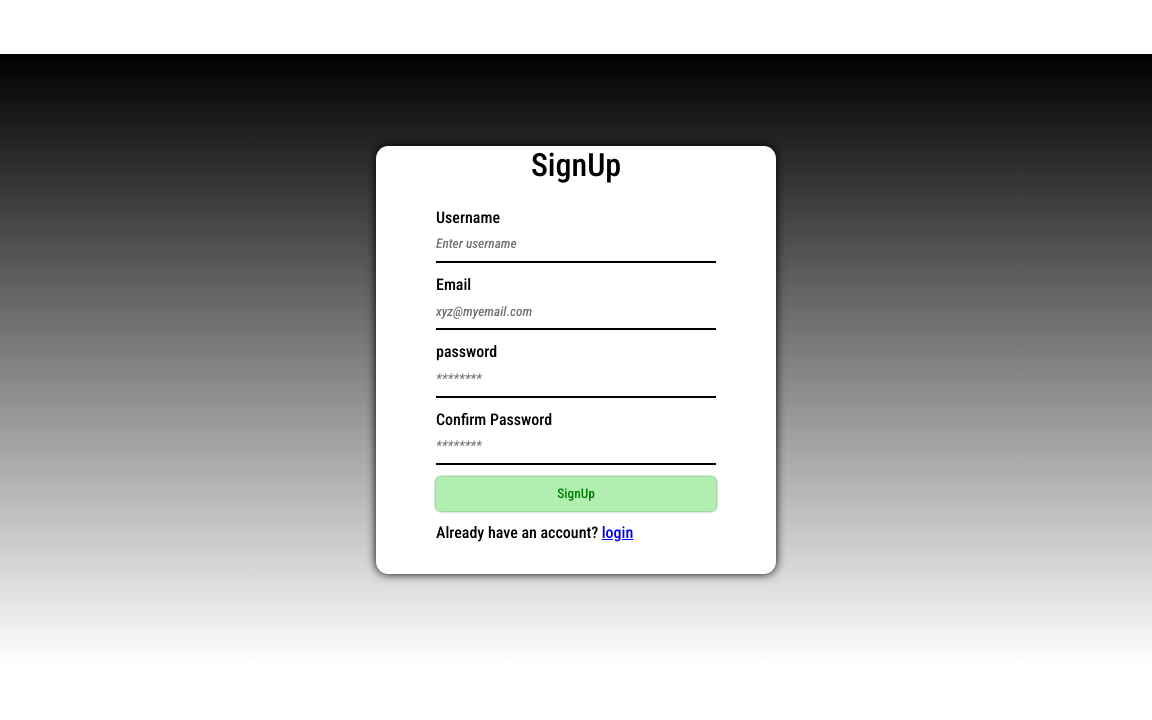
it: Sign up form › Successful Form submission
In the field with placeholder "Enter username": (576, 245) [436,227,716,263], type "testUser"
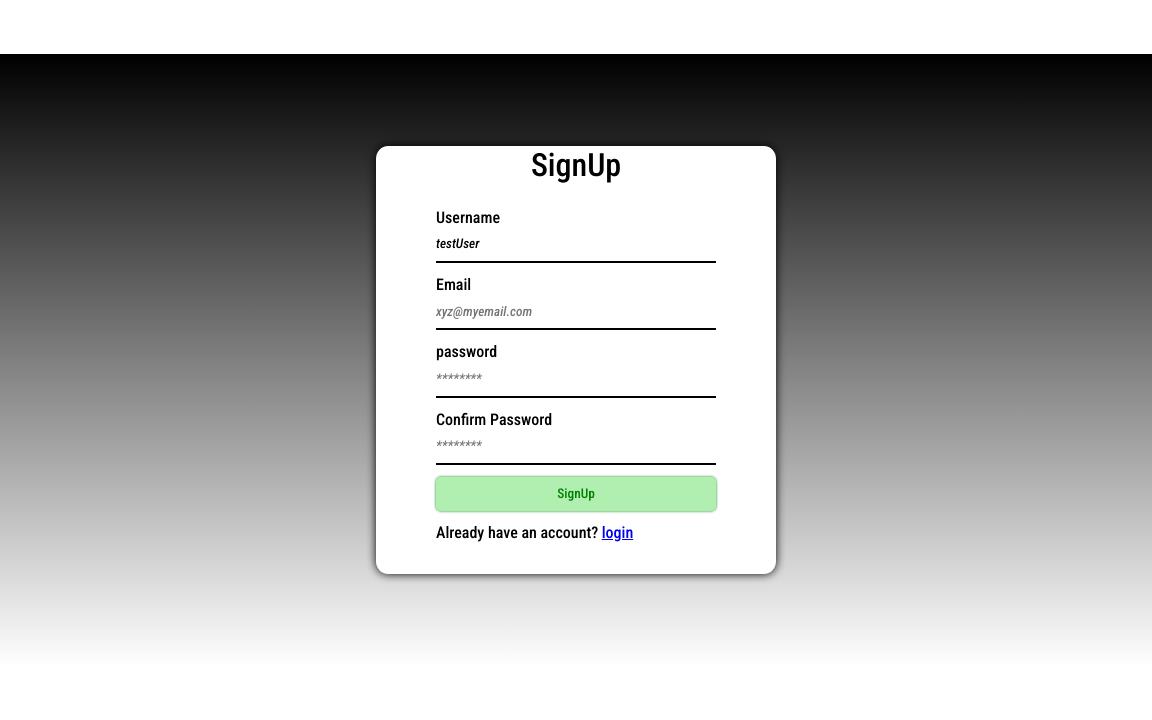
In the field with placeholder "xyz@myemail.com": (576, 312) [436,294,716,330], type "xyztestuser@email.com"
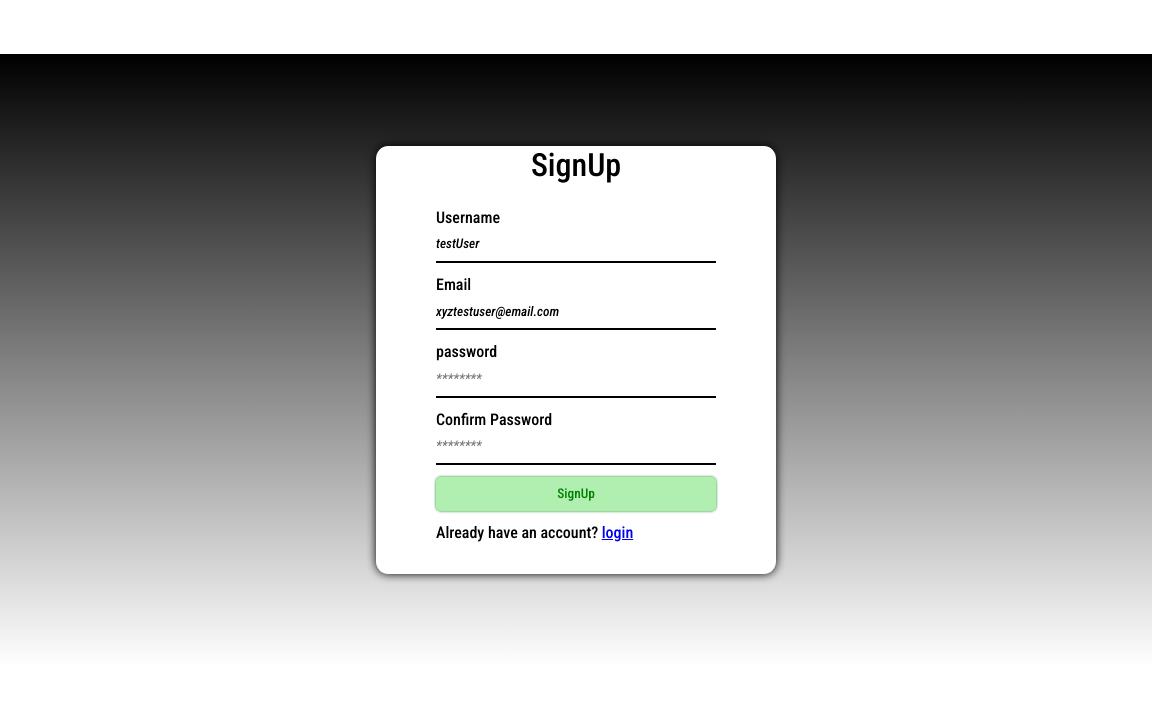
In the 1st password field with placeholder "********": (576, 379) [436,361,716,398], type "testPassword123"
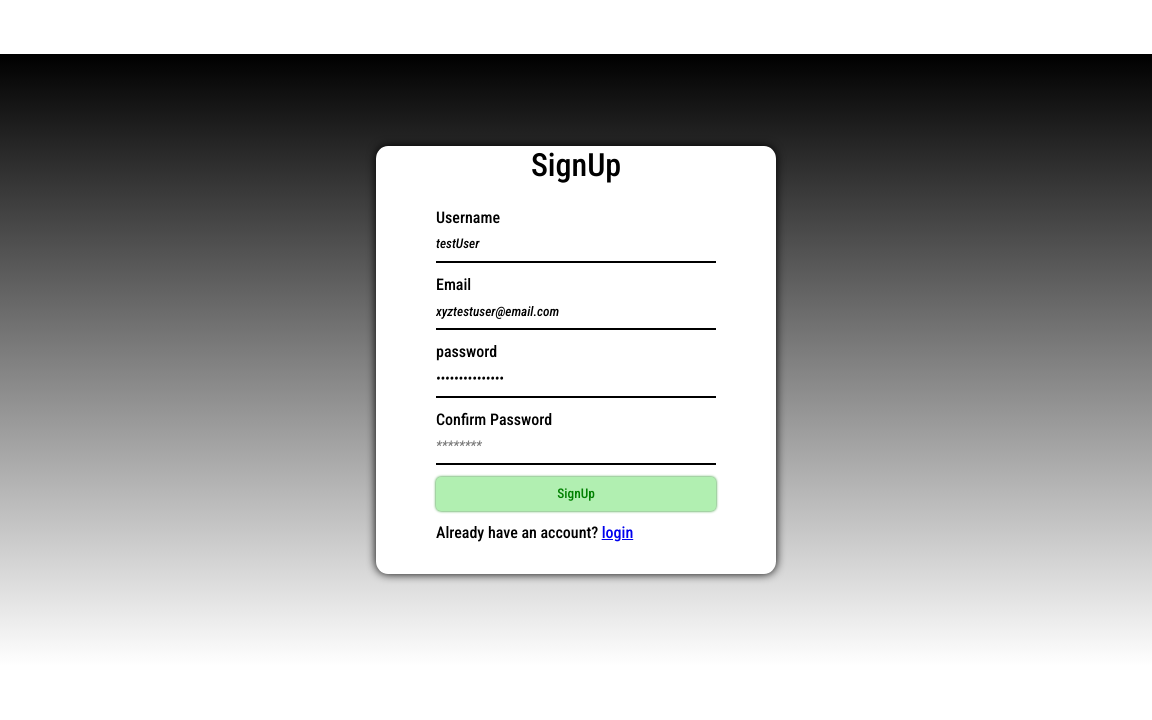
In the password field with placeholder "********": (576, 447) [436,429,716,465], type "testPassword123"
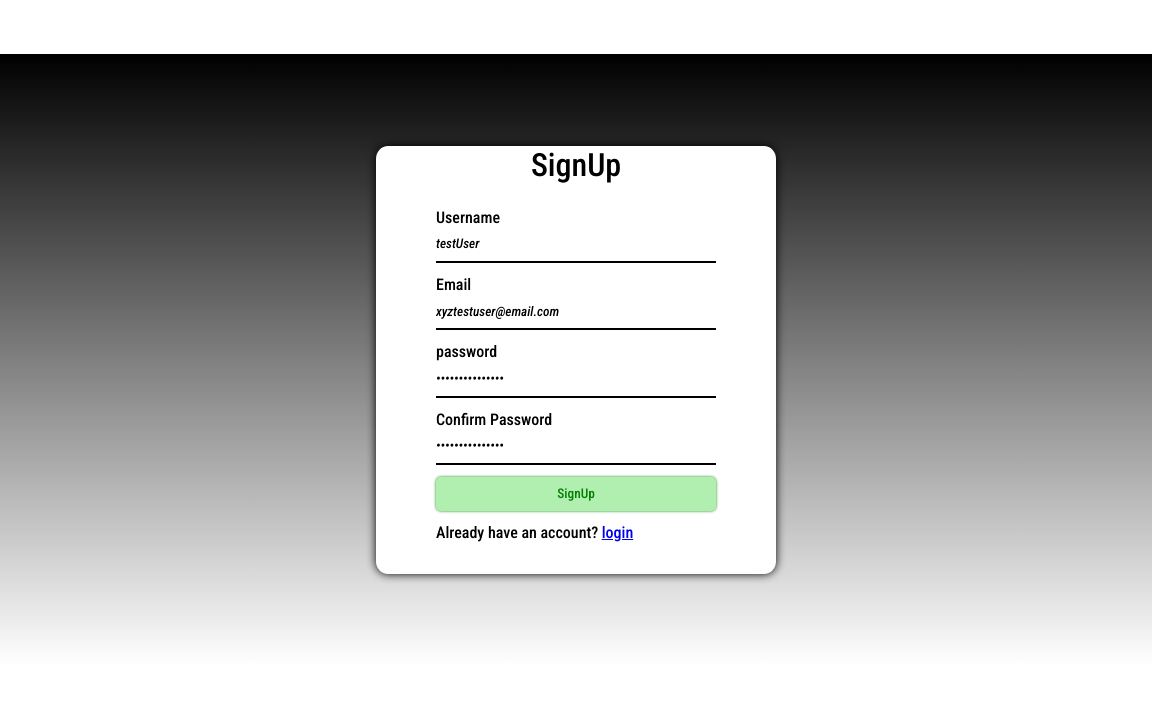
Click the button with aria-label "signUpSubmitButton": (576, 494) [436,477,716,511]
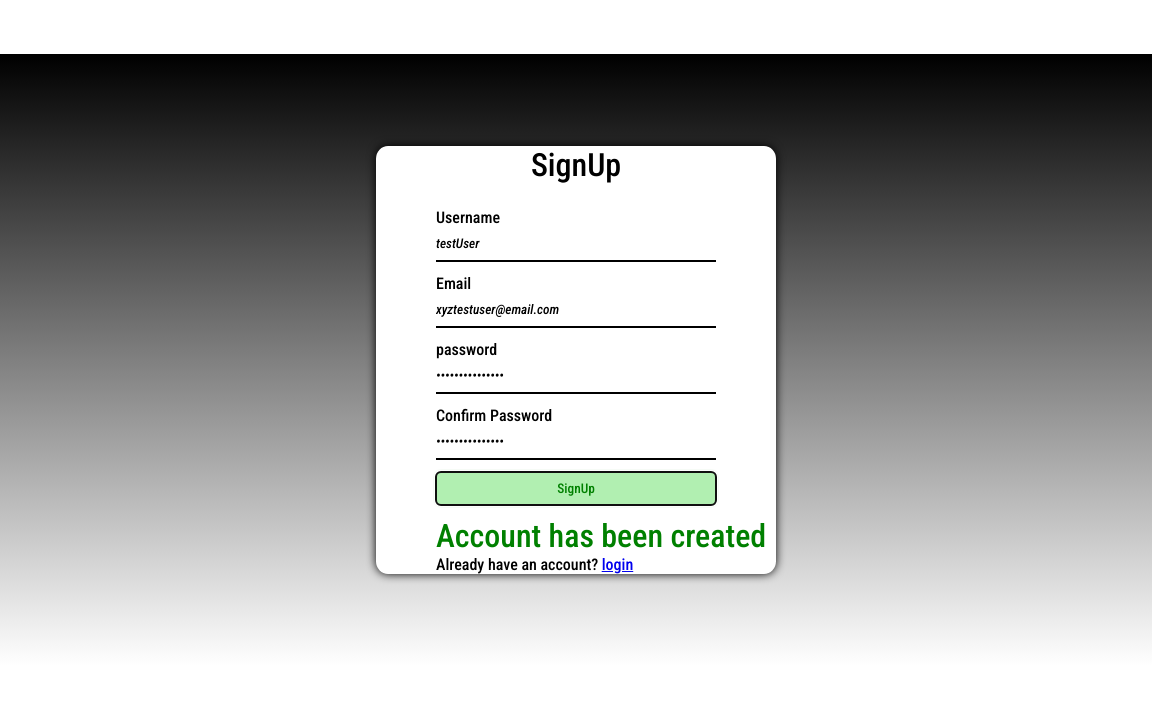
Now the text "Account has been created" is shown, box [436,517,776,555]
